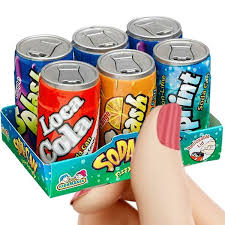can: (11, 14, 221, 158)
